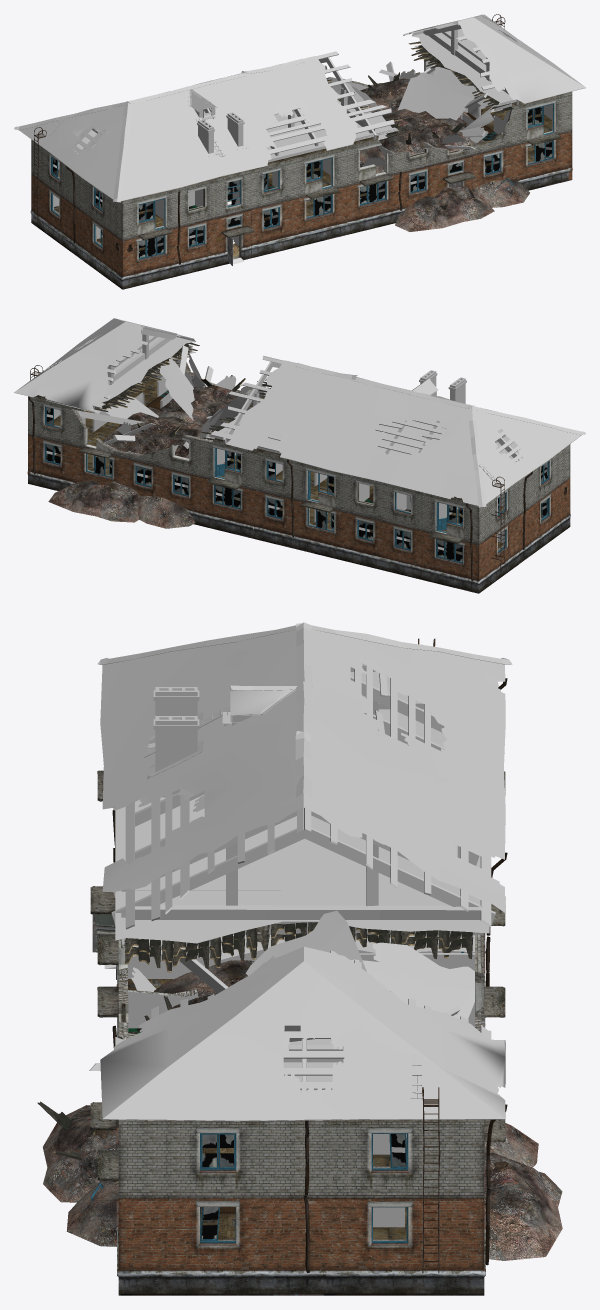
The model's file is BrickHouse.FBX.
The picture shows the model from 3 angles, top to bottom: view 1: azimuth 30°, elevation 25°; view 2: azimuth 150°, elevation 25°; view 3: azimuth 270°, elevation 25°; orthographic projection. The views are drawn at different scales.
Visible parts, largest first — view 1: Roof, 1Floor_Outsid, 2Floor_Outsid01, Object095, Musor00_00, Musor00_001, glass_01, Windows, Tsokol, Mesh002, Mesh003, 2_floor_inside (+4 smaller); view 2: Roof, 1Floor_Outsid, 2Floor_Outsid01, Object095, Musor00_00, Musor00_001, Windows, glass_01, Mesh003, Tube01, Mesh002, 2_floor_inside (+3 smaller); view 3: Roof, 1Floor_Outsid, Object095, Musor00_00, Mesh003, Mesh002, Windows, Tube01, Tsokol001, Musor00_001, glass_01, ladder_2 (+1 smaller).
Boxes of the visible parts, x1,y1,x2,y2 form: Roof: (14, 14, 585, 202); 1Floor_Outsid: (30, 72, 572, 289); 2Floor_Outsid01: (31, 139, 347, 241); Object095: (325, 59, 572, 186); Musor00_00: (395, 179, 529, 231); Musor00_001: (348, 78, 484, 173); glass_01: (53, 107, 551, 257); Windows: (49, 103, 554, 260); Tsokol: (120, 146, 347, 204); Mesh002: (340, 47, 513, 209); Mesh003: (326, 41, 510, 129); 2_floor_inside: (54, 158, 330, 219); Roof: (14, 318, 585, 507); 1Floor_Outsid: (27, 435, 570, 593); 2Floor_Outsid01: (253, 444, 570, 544); Object095: (28, 355, 265, 490); Musor00_00: (48, 480, 195, 528); Musor00_001: (102, 385, 241, 463); Windows: (44, 406, 550, 564); glass_01: (46, 407, 547, 561); Mesh003: (102, 342, 271, 434); Tube01: (28, 396, 532, 581); Mesh002: (94, 348, 271, 444); 2_floor_inside: (268, 463, 546, 518); Roof: (89, 622, 511, 1121); 1Floor_Outsid: (90, 770, 505, 1295); Object095: (118, 933, 484, 1198); Musor00_00: (43, 1105, 562, 1260); Mesh003: (118, 922, 472, 1041); Mesh002: (37, 933, 473, 1160); Windows: (90, 933, 485, 1245); Tube01: (112, 678, 507, 1272); Tsokol001: (118, 1119, 484, 1124); Musor00_001: (154, 960, 406, 1137); glass_01: (201, 1134, 405, 1239); ladder_2: (418, 638, 440, 1273).
Bounding box in the file's own units: 36.23 × 10.57 × 17.44.
